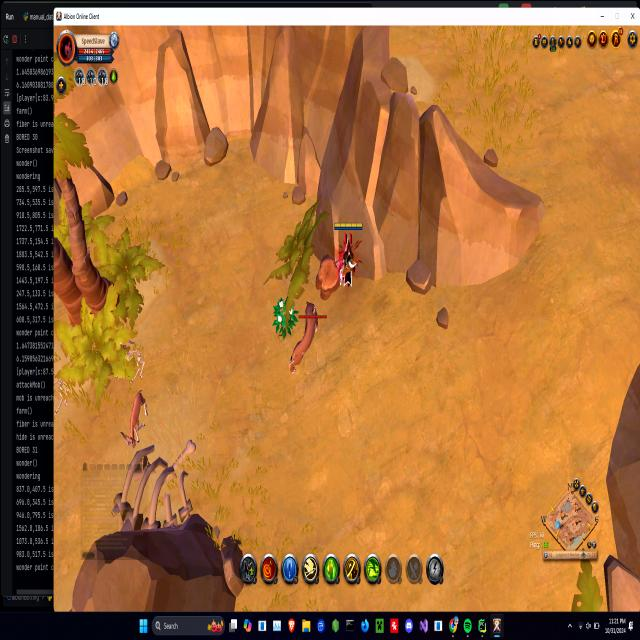hide: (272, 297, 295, 341)
ore: (286, 298, 324, 378), (120, 388, 150, 448)
red: (333, 218, 362, 287)
